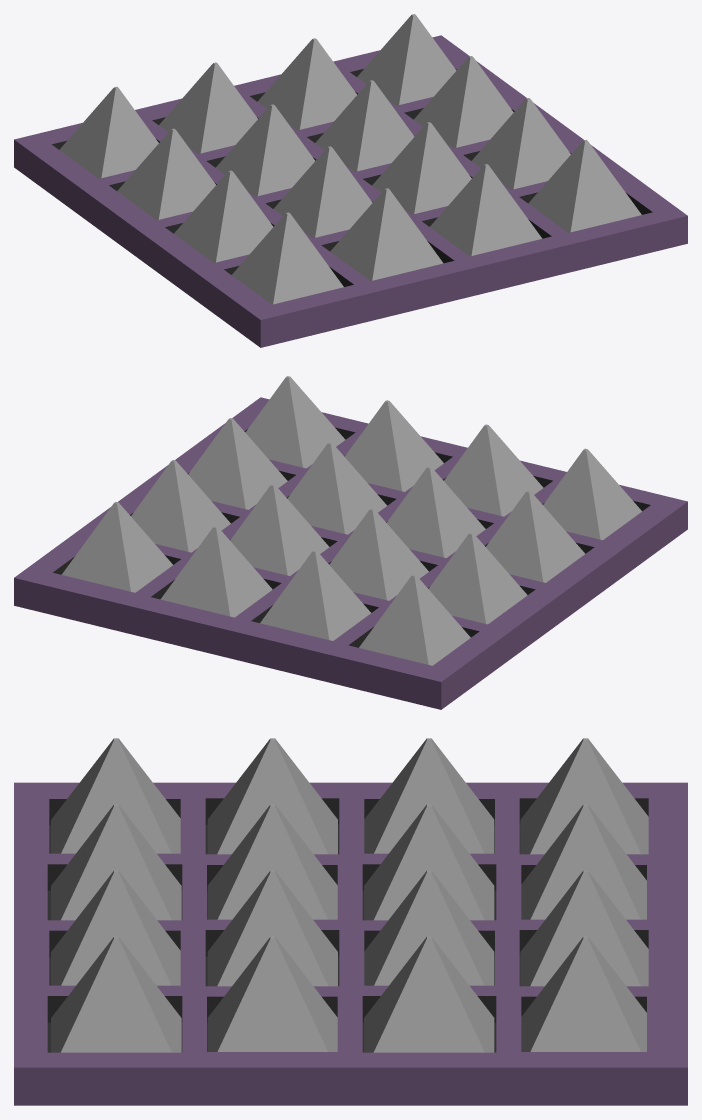
The model's file is squareSpikePlate.fbx.
The picture shows the model from 3 angles, top to bottom: view 1: azimuth 30°, elevation 25°; view 2: azimuth 150°, elevation 25°; view 3: azimuth 270°, elevation 25°; orthographic projection. The views are drawn at different scales.
Visible parts, largest first — view 1: Square Spikes, Square Spike Plate; view 2: Square Spikes, Square Spike Plate; view 3: Square Spikes, Square Spike Plate.
Boxes of the visible parts, bbox=[...] form: Square Spikes: bbox=[59, 14, 641, 304]; Square Spike Plate: bbox=[14, 35, 687, 347]; Square Spikes: bbox=[61, 376, 641, 665]; Square Spike Plate: bbox=[14, 397, 687, 709]; Square Spikes: bbox=[51, 738, 648, 1052]; Square Spike Plate: bbox=[14, 782, 687, 1105].
Size of the model in its own units: 200 by 200 by 40.88.
